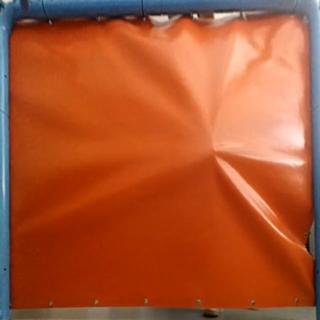Hit-hRxx: (208, 146, 222, 158)
